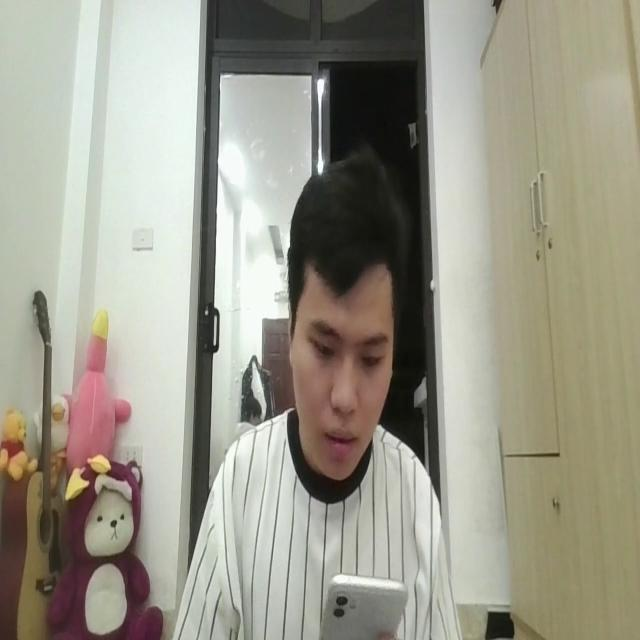phone: (319, 565, 406, 640)
student: (169, 139, 460, 640)
